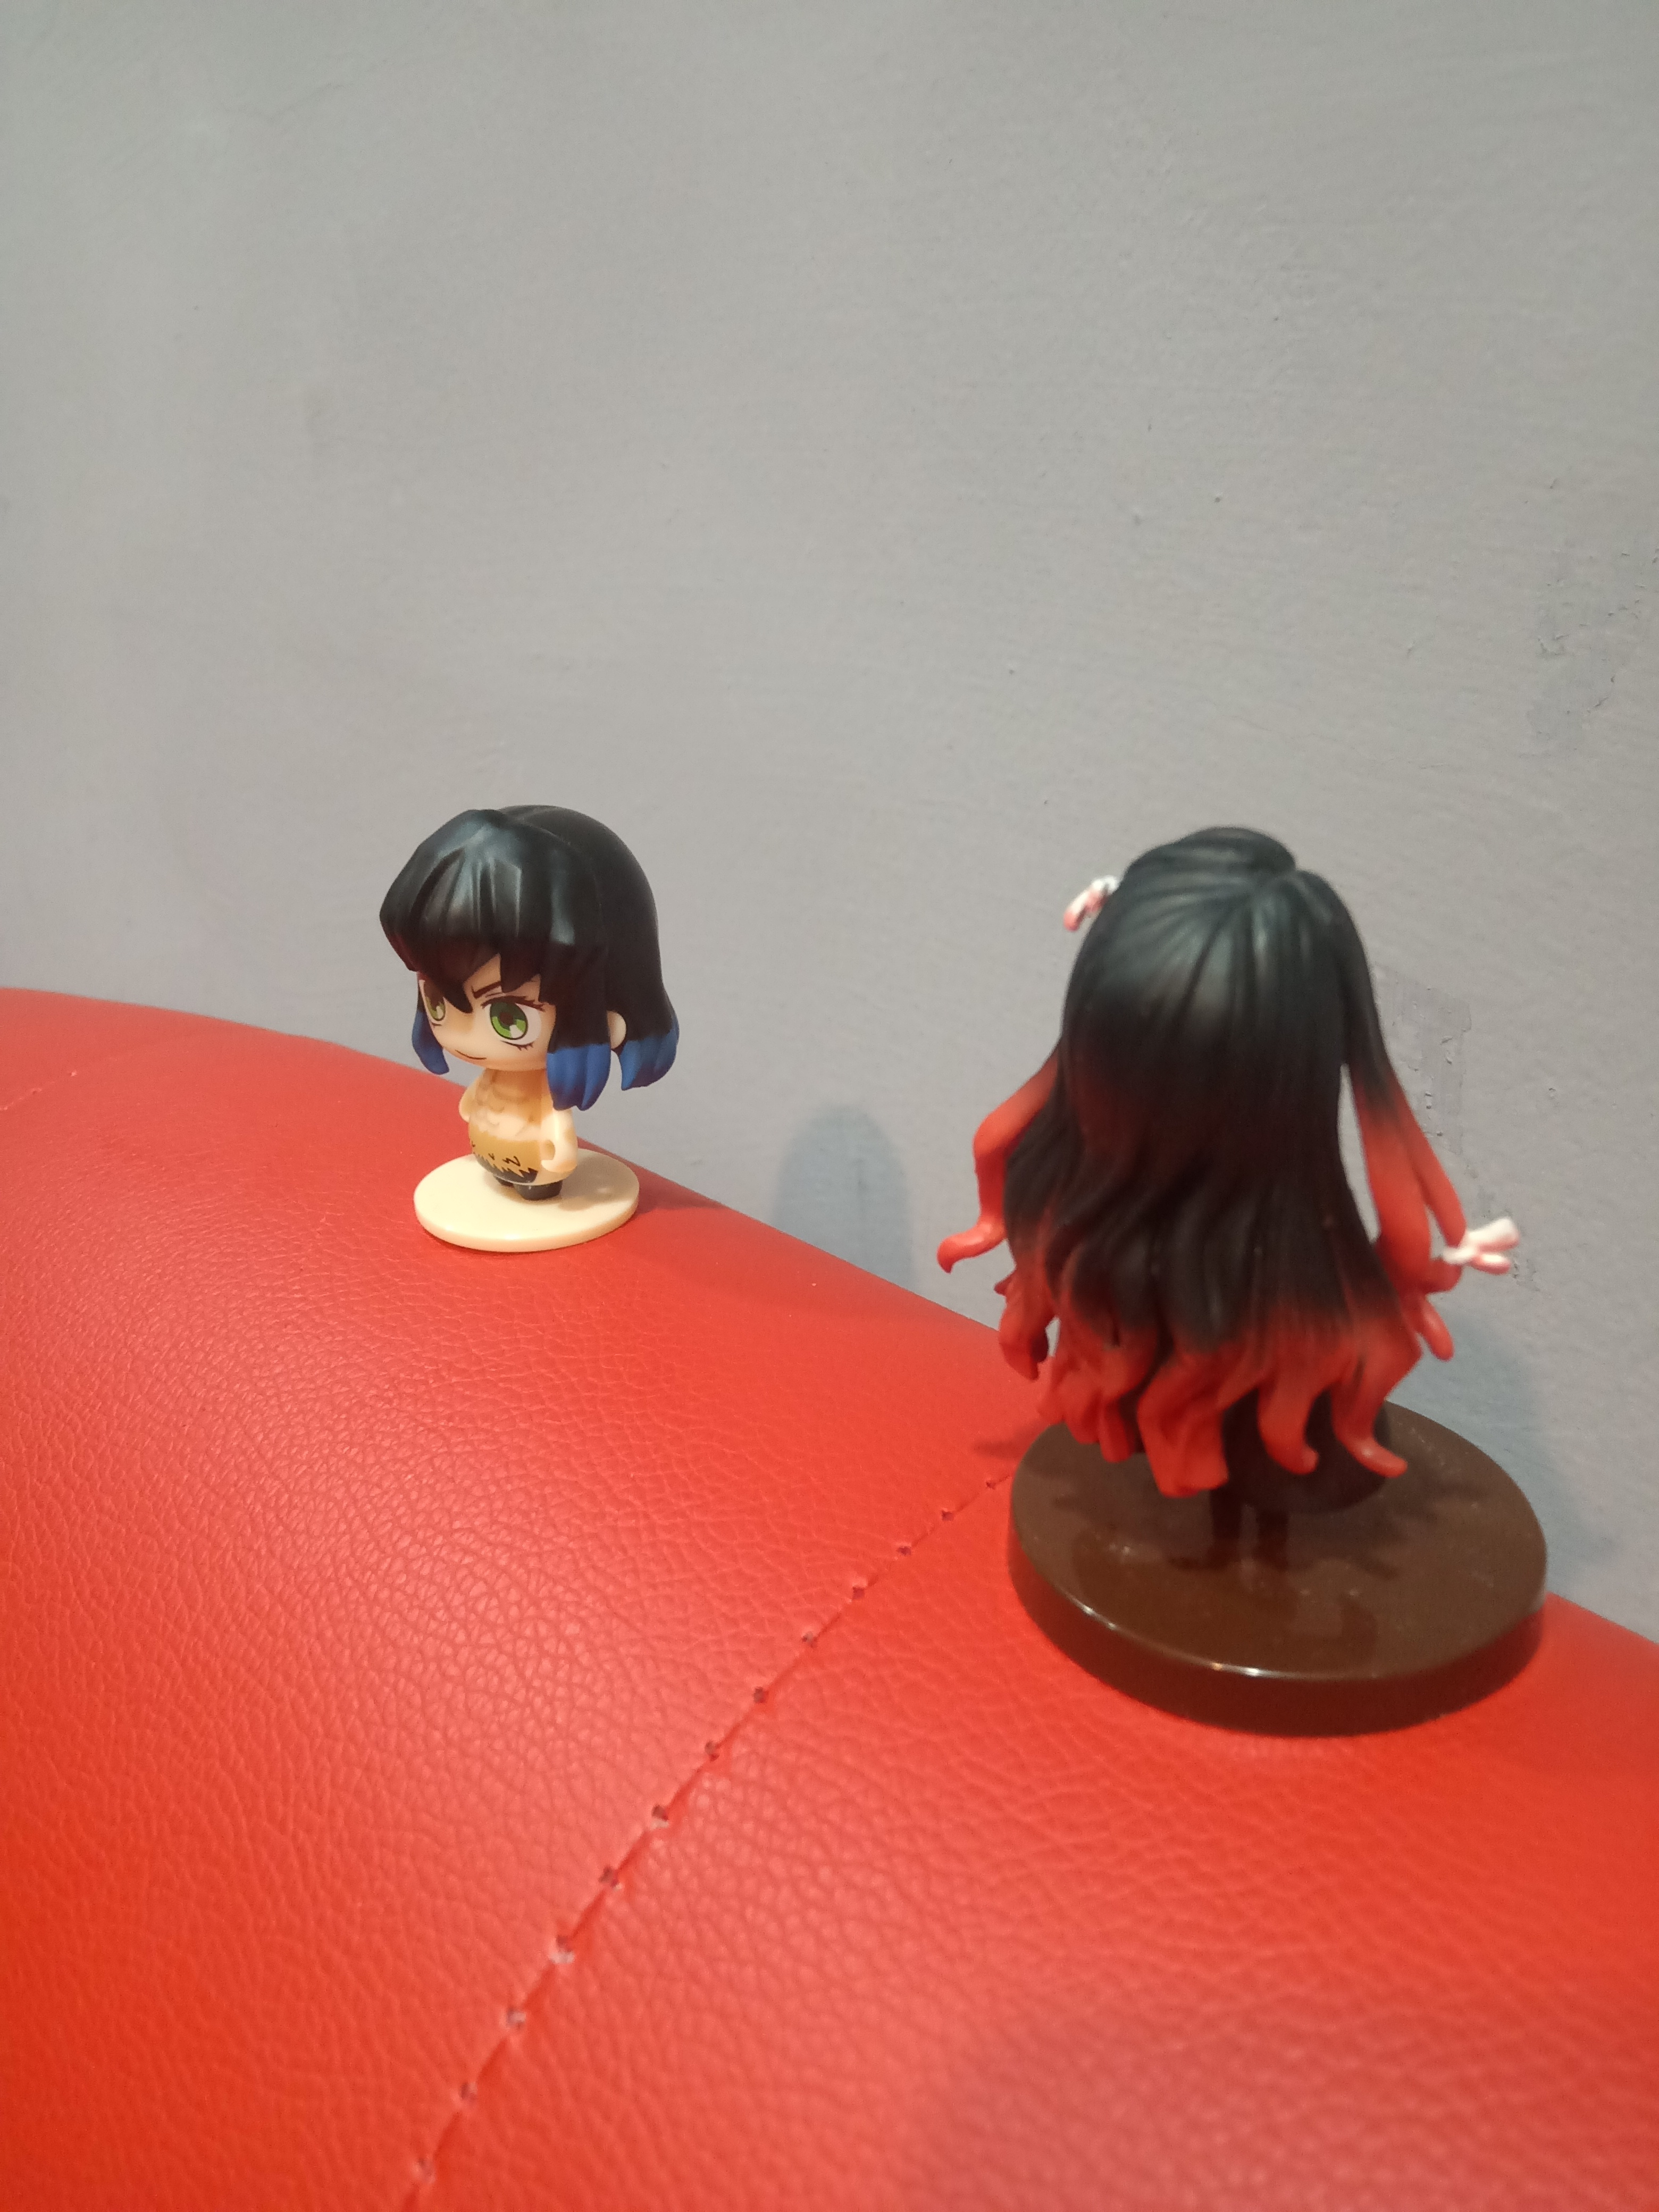Inosuke: (366, 789, 708, 1280)
Nezuko: (915, 812, 1567, 1747)
